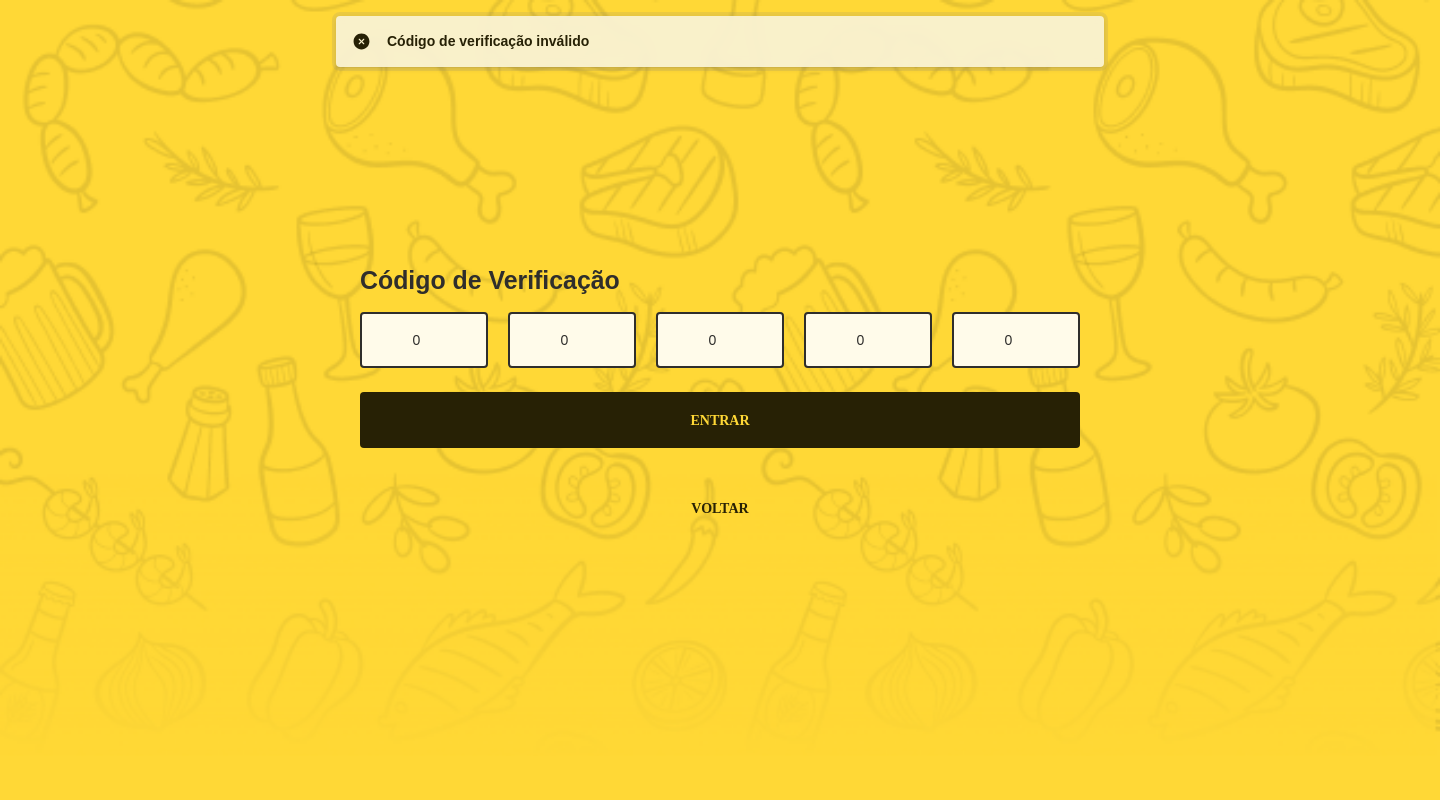
sign up › should close toast
Click the element with test id "toast" at (720, 42), box [336,16,1104,67]
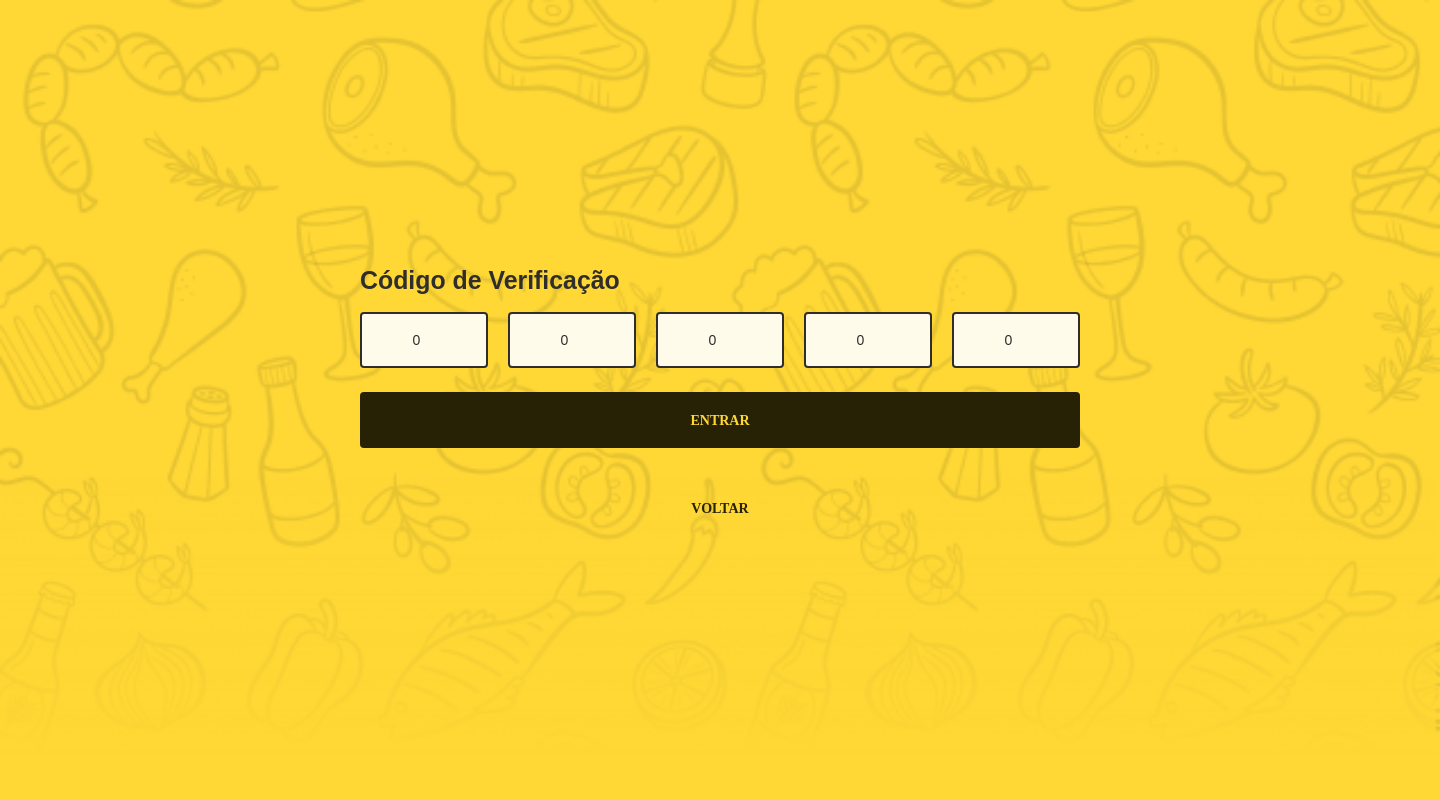
Result: the element with test id "toast" is gone
